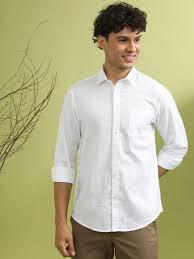shirt: (51, 64, 191, 233)
